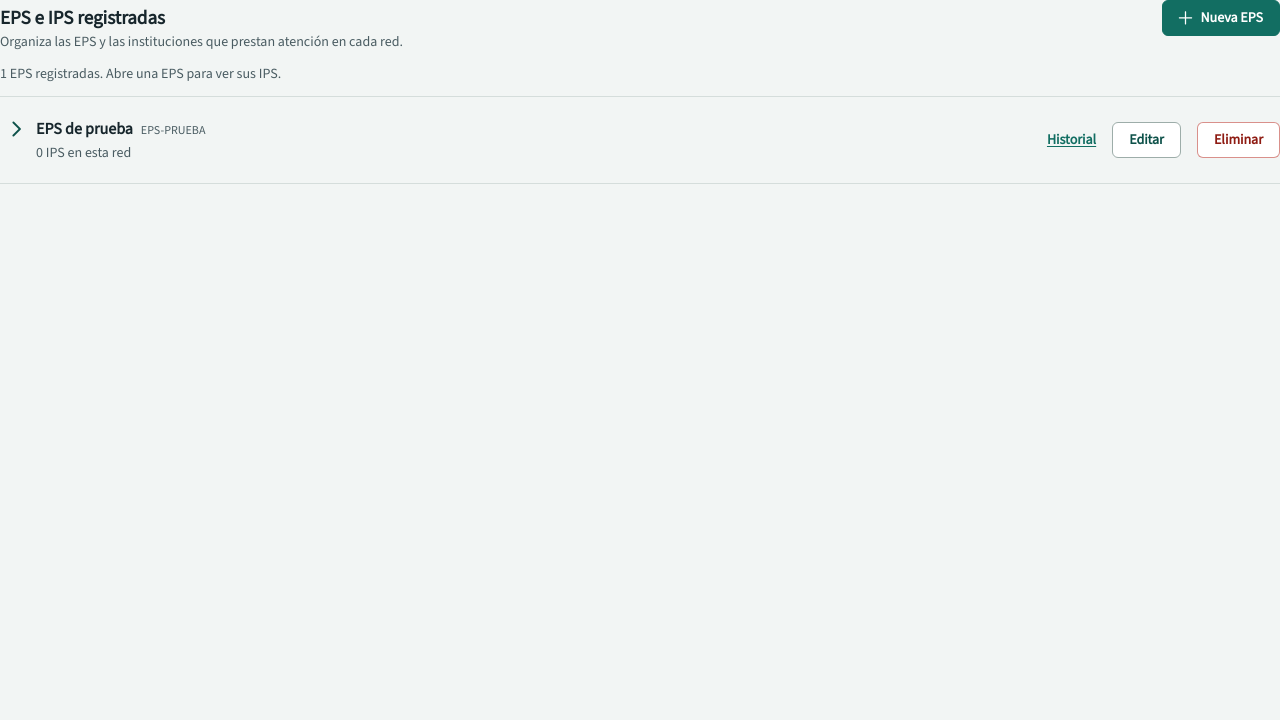
also restores from the session list
Click the button with aria-label "Eliminar EPS de prueba" at (1238, 140), box [1197,122,1279,158]
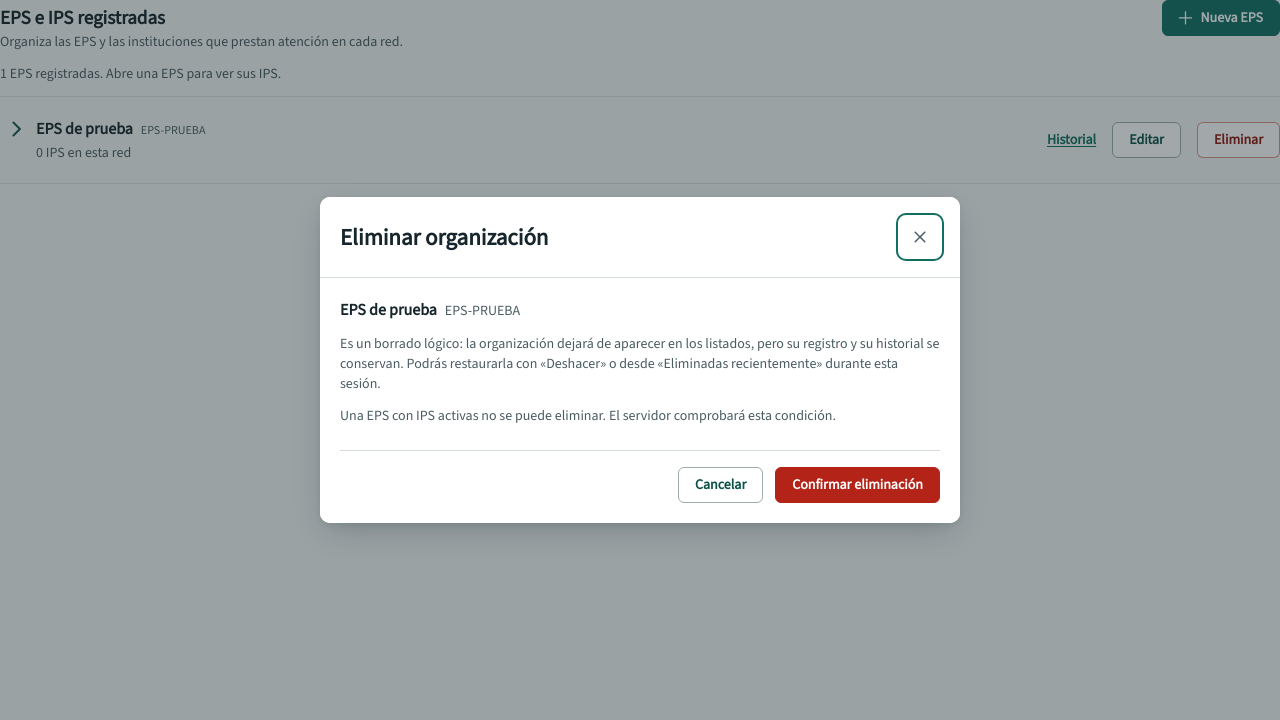
Expected: the text "Es un borrado lógico" is shown, [340,334,939,393]
Click the button "Confirmar eliminación" at (858, 485), box [775,467,940,503]
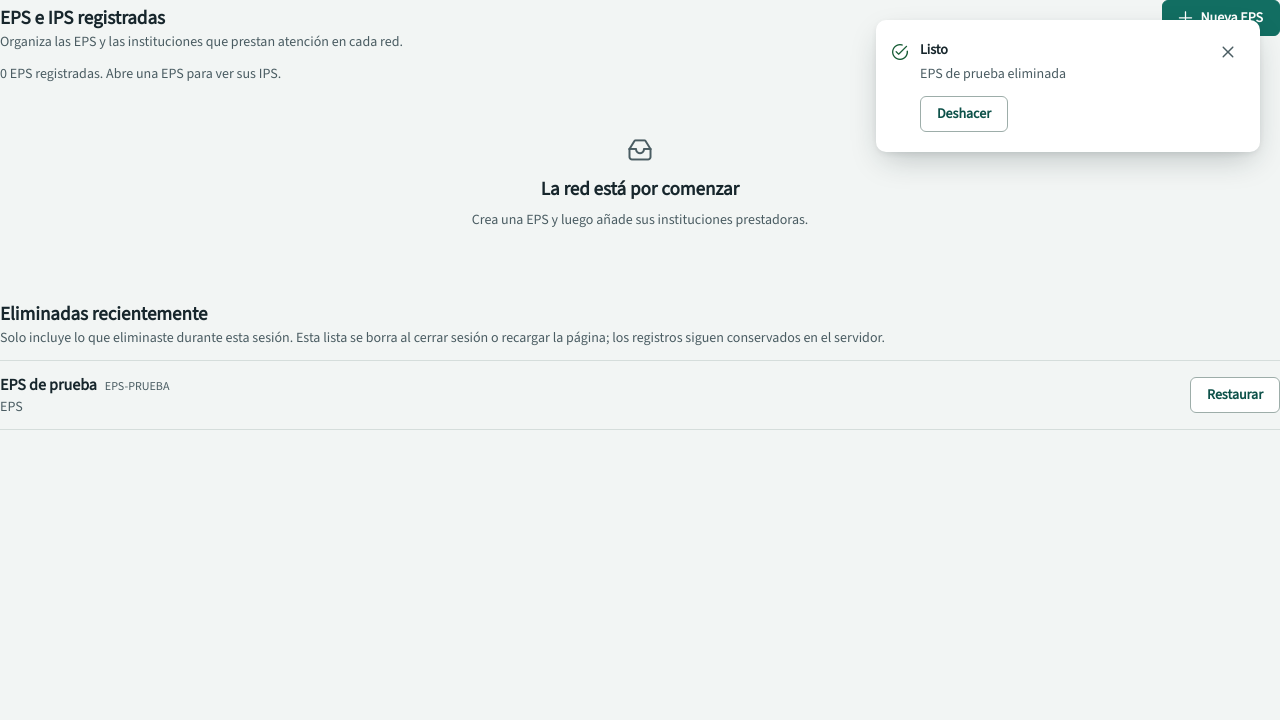
Expected: the heading "Eliminadas recientemente" is shown, [0,301,208,326]
Click the button with aria-label "Restaurar EPS de prueba" at (1235, 394), box [1190,376,1279,412]
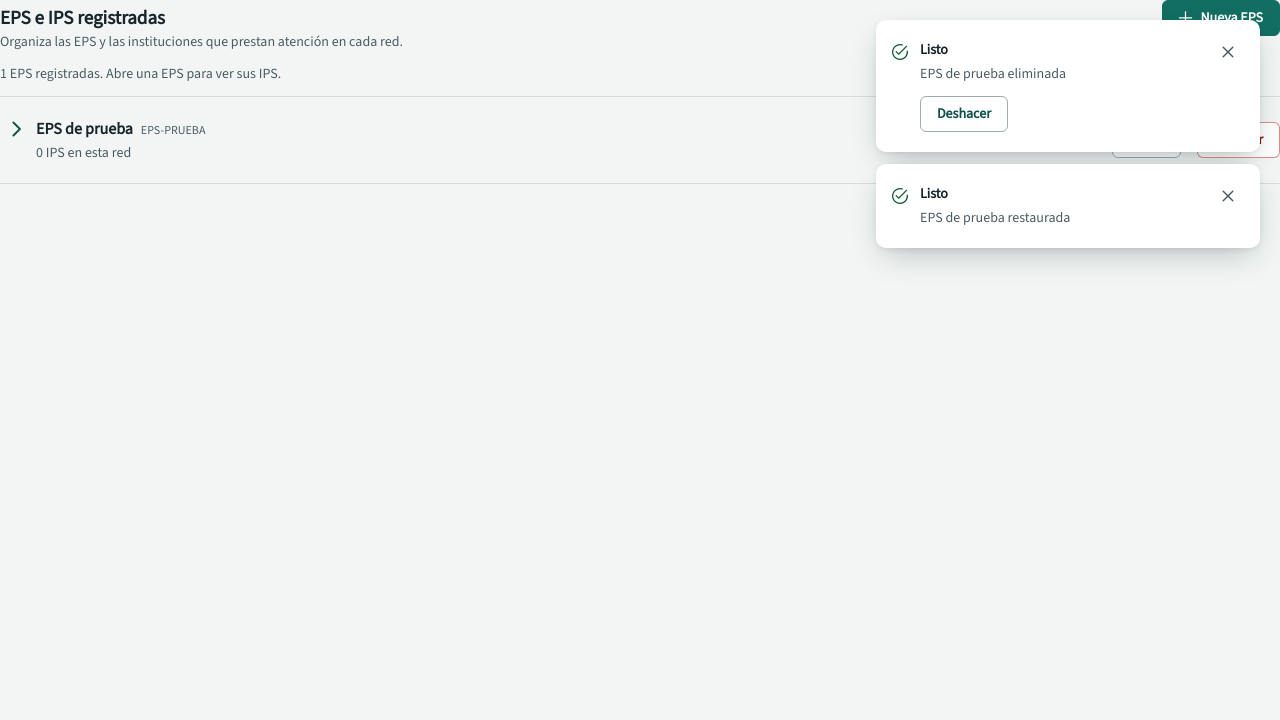
Expected: the button with aria-label "Eliminar EPS de prueba" is shown, [1197,122,1279,158]
